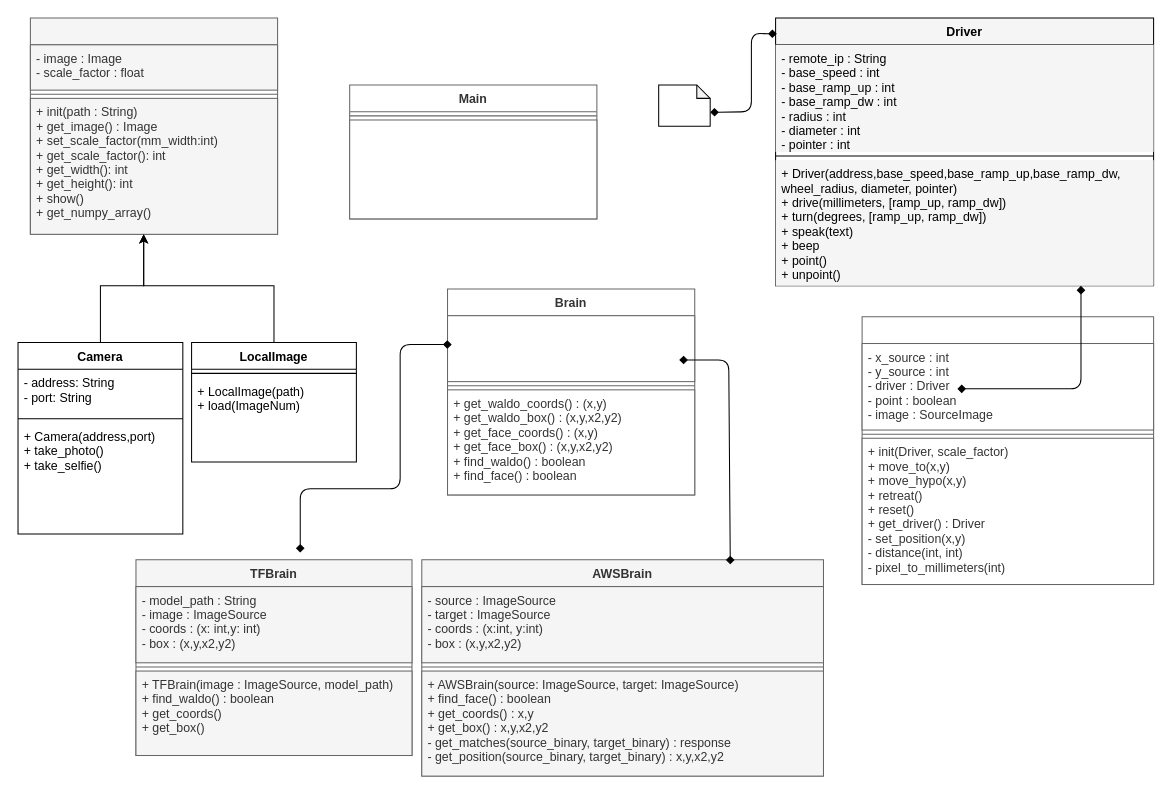
Some shapes in this 1172 by 797 pixel diagram are drawn without their labels. The shapes that lost their labels are listed below. From the top down, each one's box as (x1, y1, x2, y2) in pixels, then its label:
(658, 84, 710, 126): config
(29, 17, 278, 234): ImageSource
(349, 119, 597, 219): + get_image() + find_waldo() + move_robot() + take_selfie() + find_face()
(447, 315, 695, 382): - image : ImageSource - TFBrain : TFBrain - ImageRecognition : ImageRecognition
(861, 316, 1154, 585): Robot
